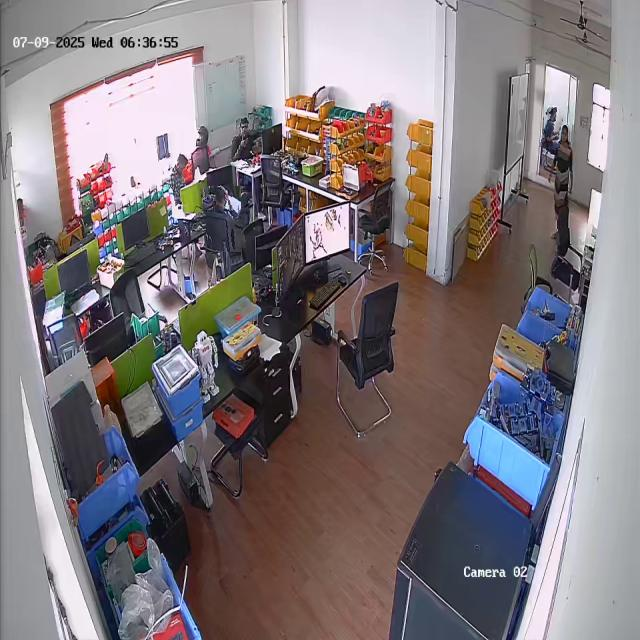person: (550, 125, 578, 245), (203, 185, 244, 253), (230, 116, 262, 170), (164, 154, 196, 202), (542, 105, 563, 149)
